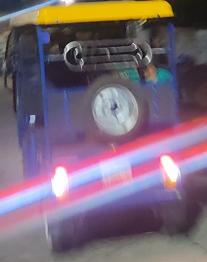Auto: (3, 1, 189, 252)
